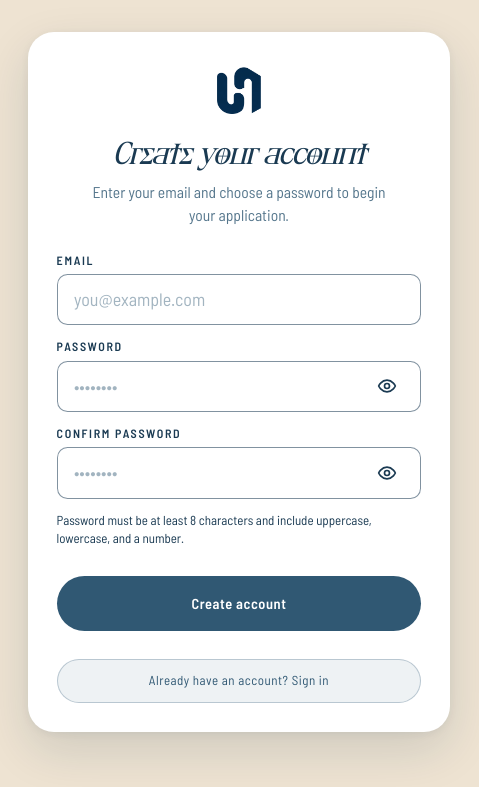
Test: SignInPage extended › validates email format before creating an account
Type "invalid-email" into the field labelled "Email" at (239, 300), box [57, 274, 421, 325]
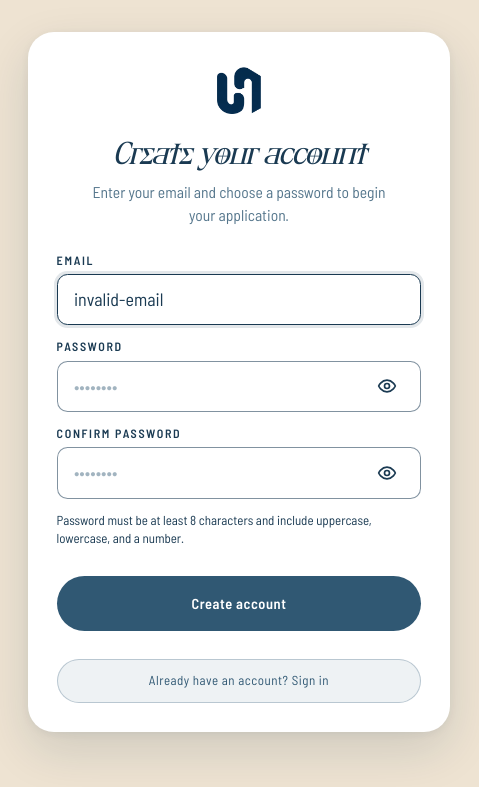
Type "Hackuta1" into the password field labelled "Password" at (239, 386), box [57, 361, 421, 412]
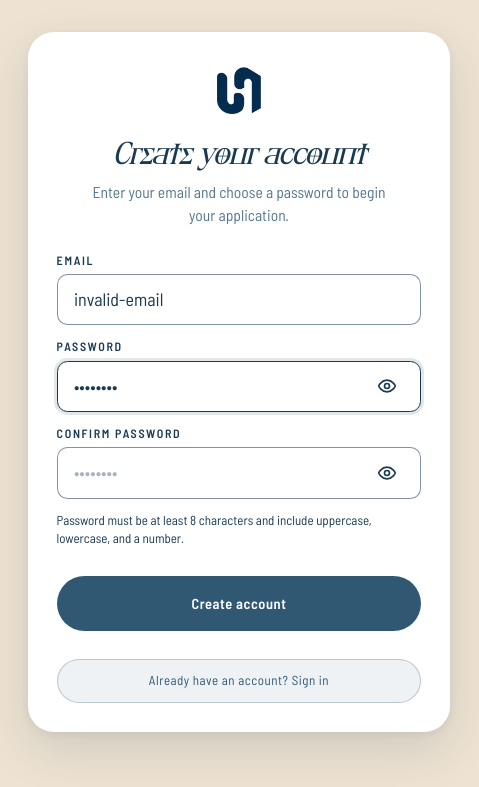
Type "Hackuta1" into the password field labelled "Confirm password" at (239, 473), box [57, 448, 421, 499]
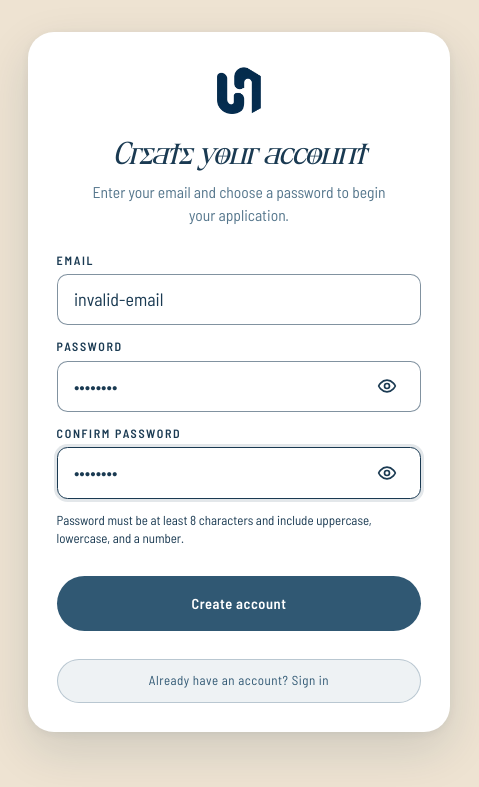
Click the button "Create account" at (239, 604), box [57, 576, 421, 631]
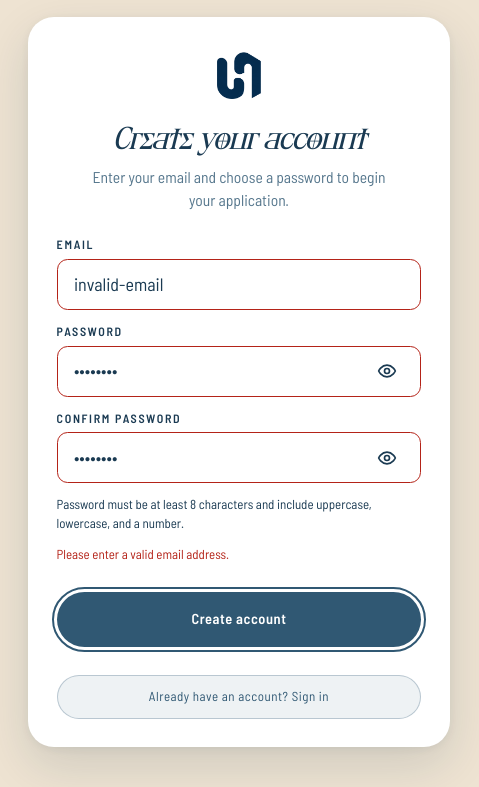
expect the text "Please enter a valid email address." is shown: met, box [57, 546, 229, 562]
